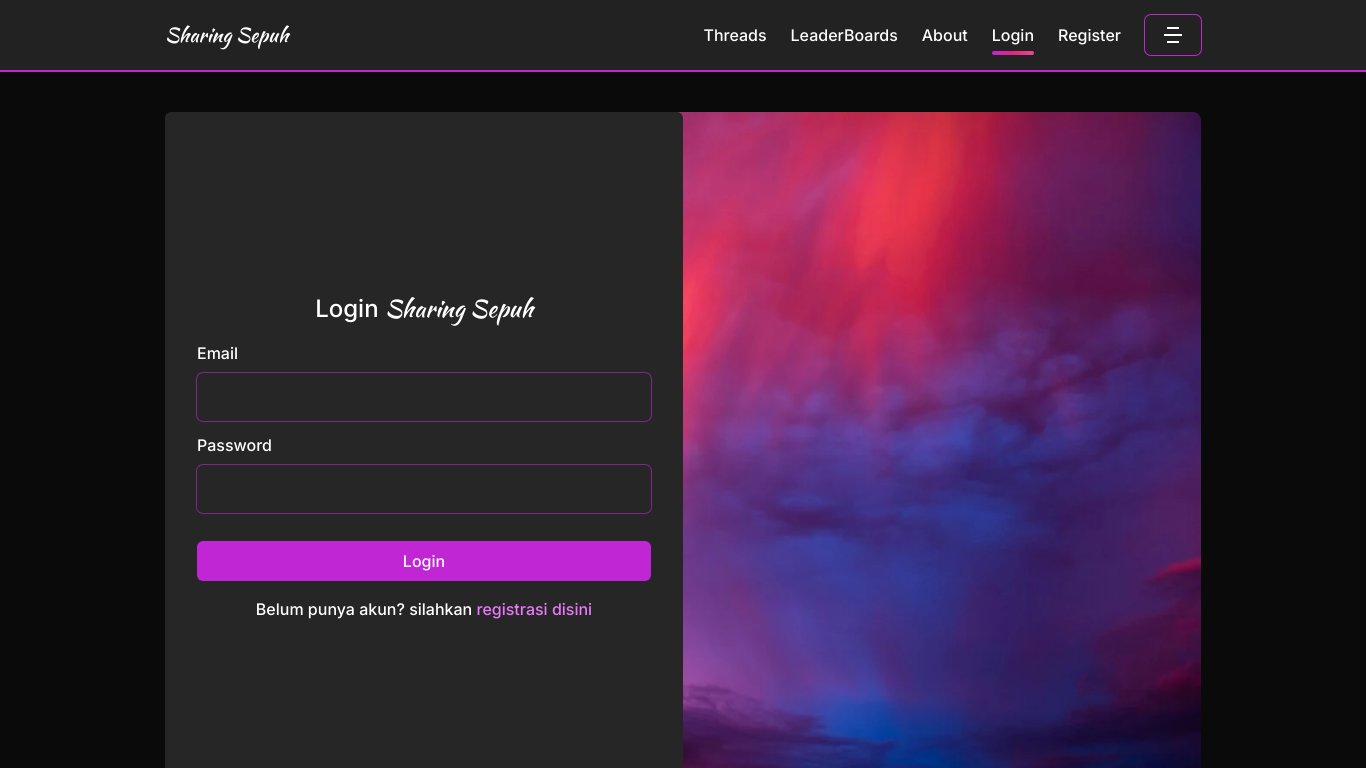
Test: login spec › should display input note error and button login disable when email is not valid pattern
In the field labelled "Email": coordinates (424, 397) [197,373,651,421], type "testuser@mail.i"
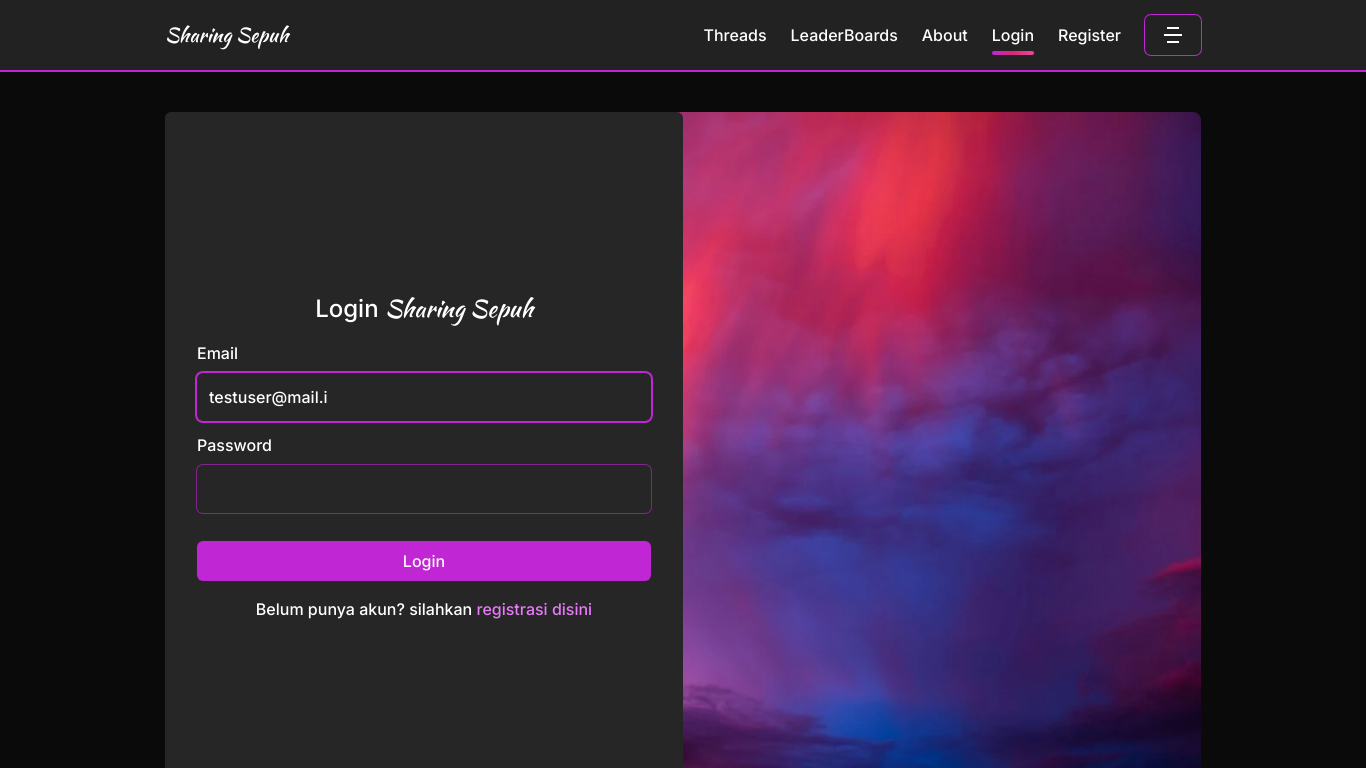
Submit the form, box [197,341,651,581]
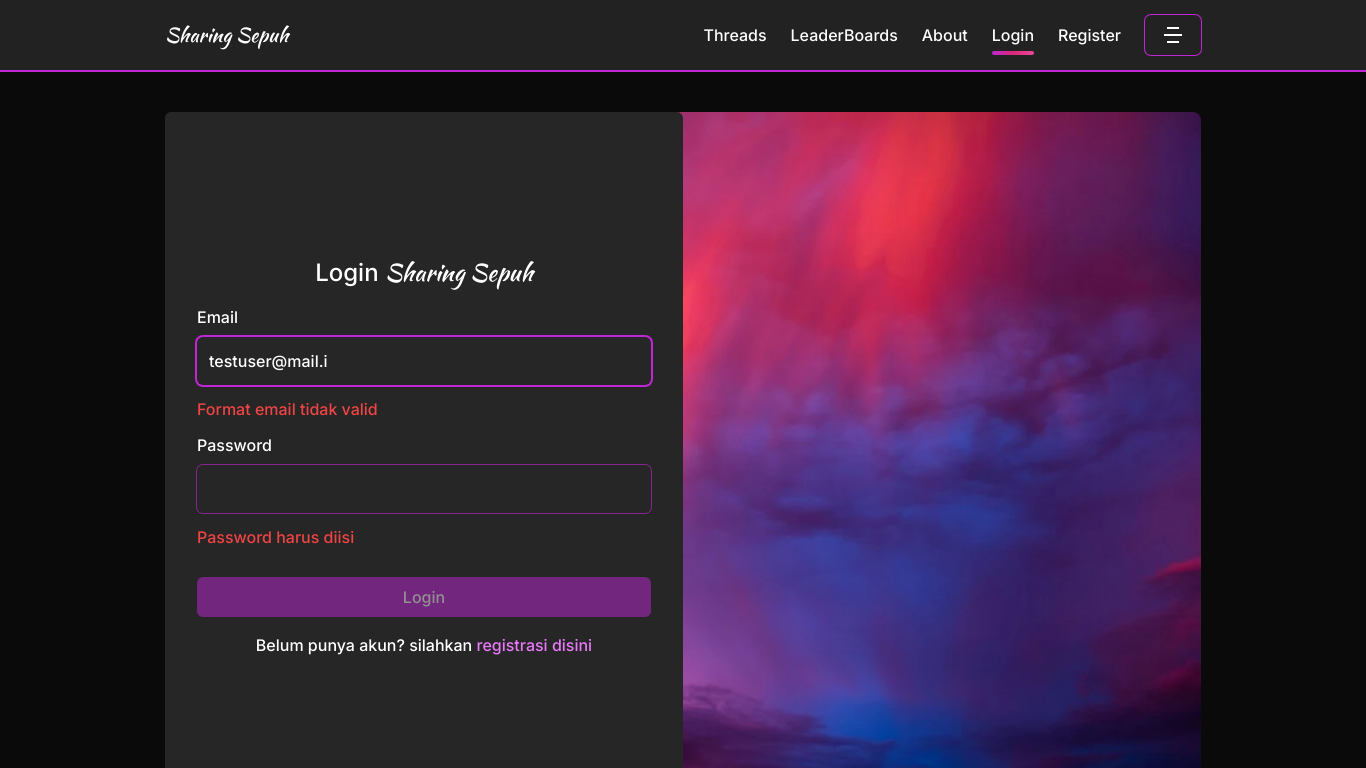
Expected: the button "Login" next to "About" is disabled, [992,23,1034,47]
Expected: the text "Password harus diisi" is shown, [197,527,354,547]
